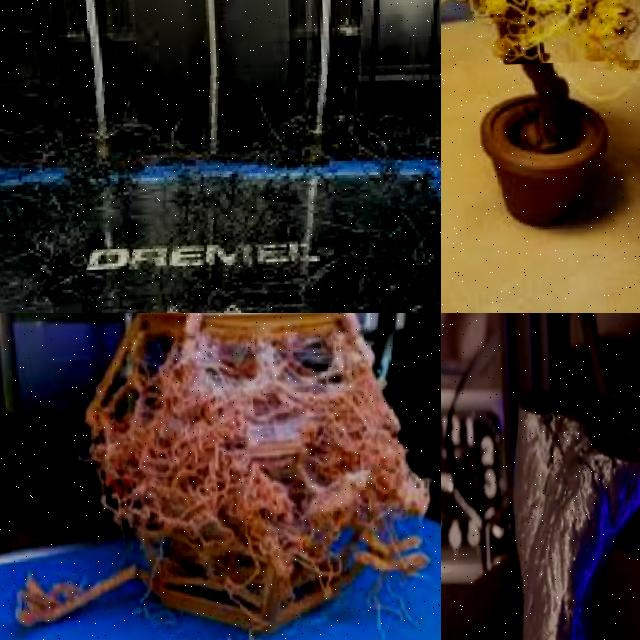spaghetti: (0, 49, 441, 313), (441, 0, 640, 69)
